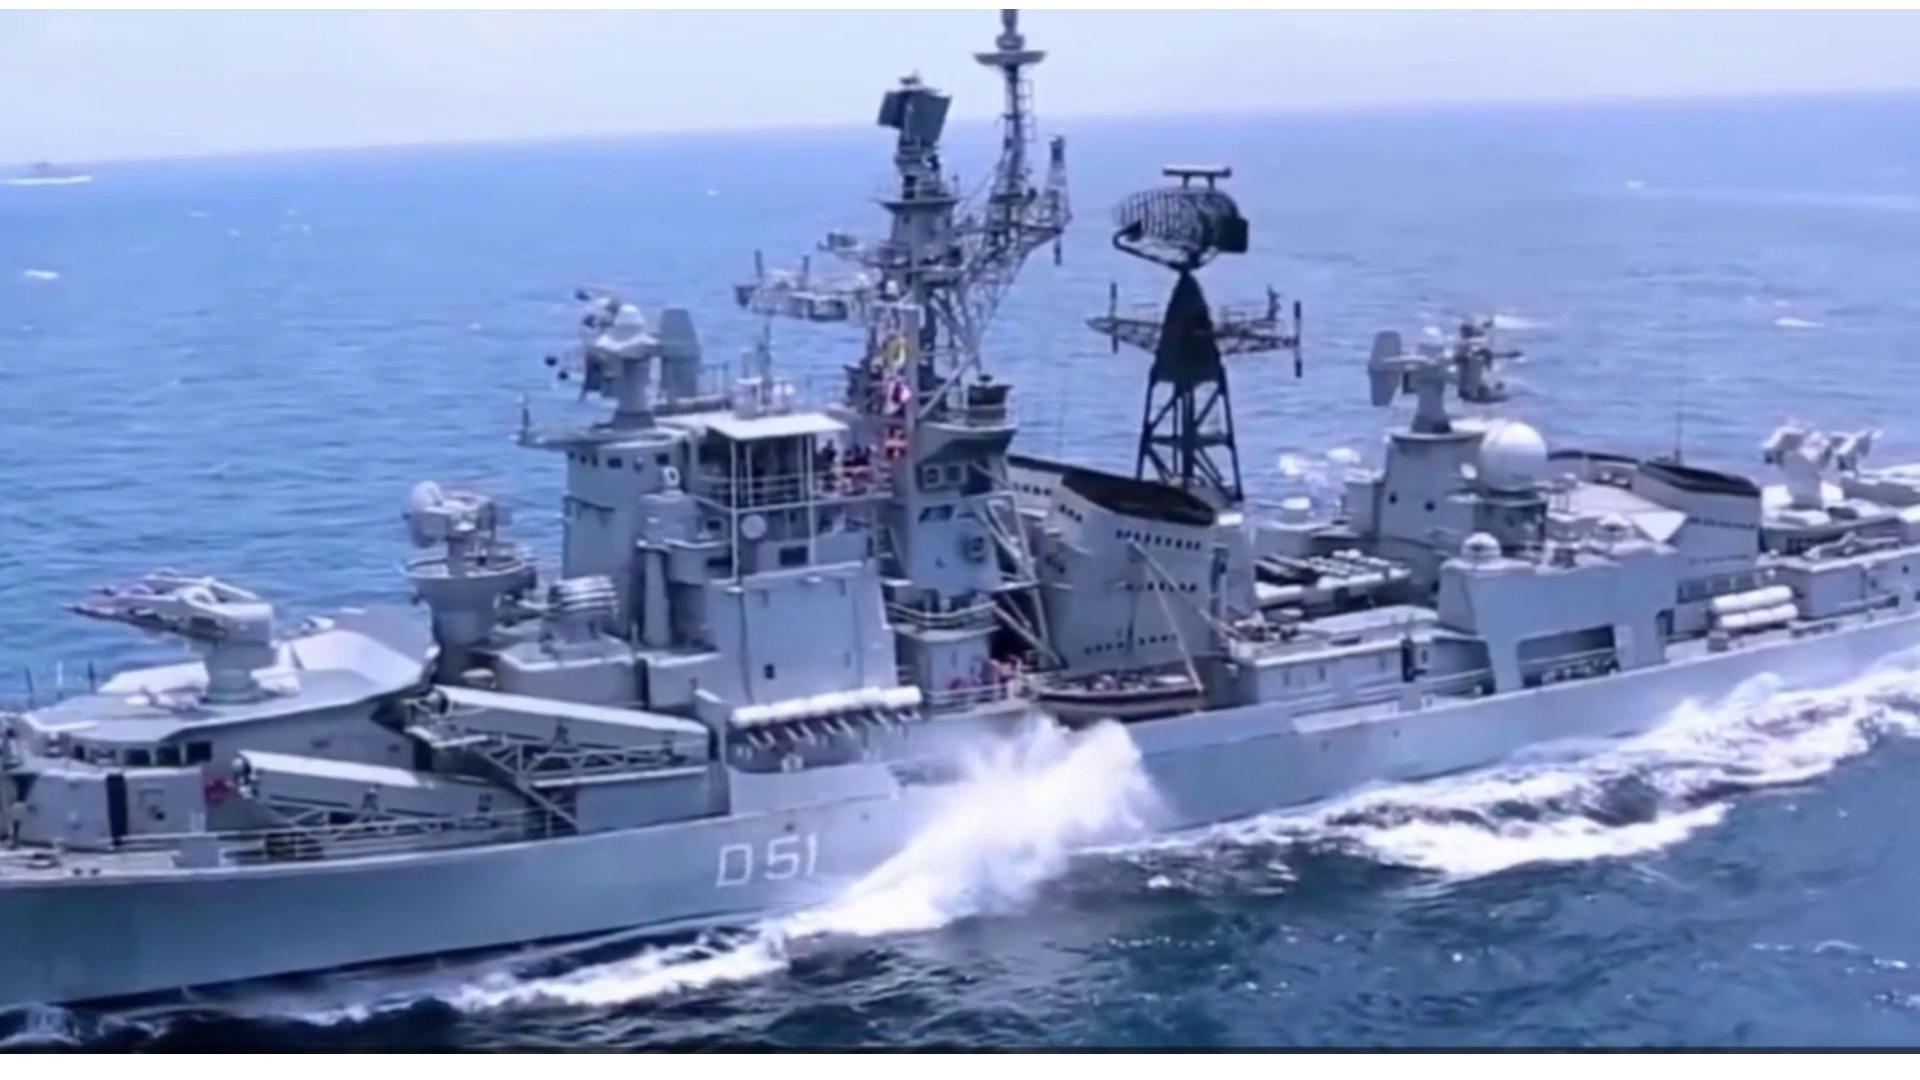OCR: (671, 818, 823, 905)
